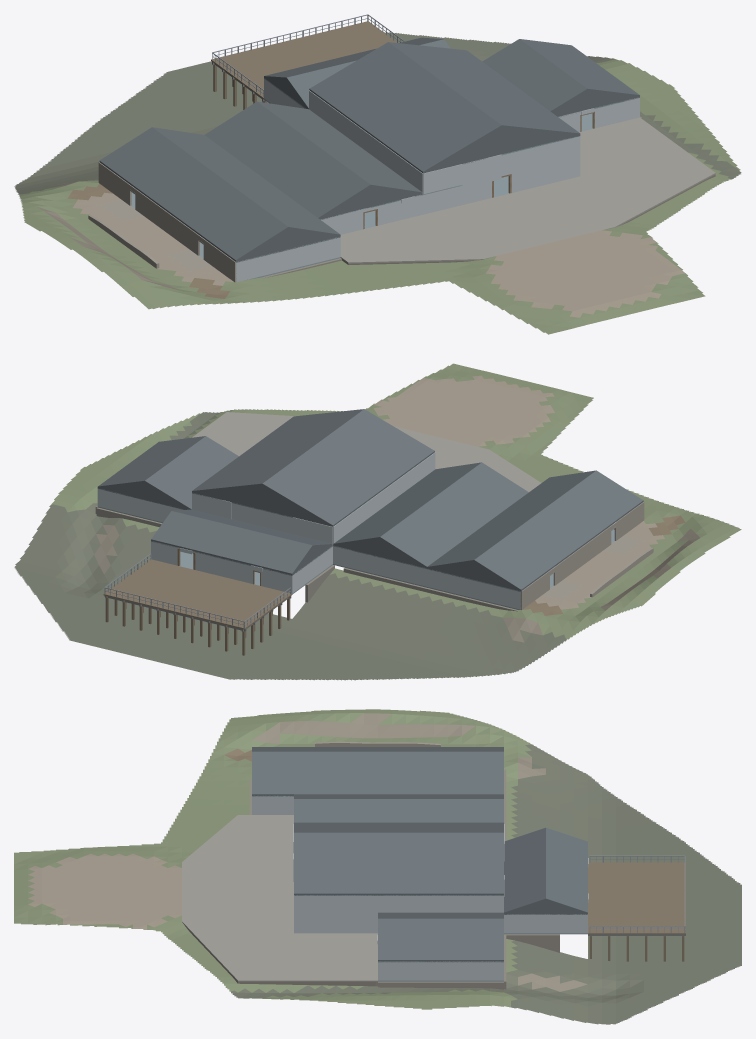
The model's file is greywater-review.glb.
3 renders of one model, top to bottom at view 1: azimuth 30°, elevation 25°; view 2: azimuth 150°, elevation 25°; view 3: azimuth 270°, elevation 25°, orthographic. The views are drawn at different scales.
Visible parts, largest first — view 1: WLD-13 saved ground, WLD-13 cannery service yard structural surface region0, processing-hall roof west, crew-mess-and-bunks roof west, boiler-and-wash roof west, processing-hall roof east, WLD-13 shore loading dock structural surface region0, crew-mess-and-bunks roof east, boiler-and-wash roof east, cold-store roof west, WLD-13 clean processing S end, cold-store roof east (+18 smaller); view 2: WLD-13 saved ground, processing-hall roof west, crew-mess-and-bunks roof west, WLD-13 shore loading dock structural surface region0, boiler-and-wash roof west, office-and-stores roof north, WLD-13 cannery service yard structural surface region0, processing-hall roof east, crew-mess-and-bunks roof east, cold-store roof west, boiler-and-wash roof east, cold-store roof east (+18 smaller); view 3: WLD-13 saved ground, WLD-13 cannery service yard structural surface region0, processing-hall roof east, crew-mess-and-bunks roof east, WLD-13 shore loading dock structural surface region0, cold-store roof east, boiler-and-wash roof east, WLD-13 clean processing E end, office-and-stores roof south, office-and-stores roof north, WLD-13 clean cold E end, processing-hall roof west (+9 smaller).
Part boxes in pixels (left/top/right/bottom): WLD-13 saved ground: left=14, top=32, right=741, bottom=334; WLD-13 cannery service yard structural surface region0: left=340, top=117, right=715, bottom=263; processing-hall roof west: left=309, top=42, right=501, bottom=172; crew-mess-and-bunks roof west: left=99, top=127, right=288, bottom=261; boiler-and-wash roof west: left=205, top=101, right=370, bottom=218; processing-hall roof east: left=388, top=42, right=580, bottom=134; WLD-13 shore loading dock structural surface region0: left=211, top=21, right=396, bottom=99; crew-mess-and-bunks roof east: left=152, top=127, right=340, bottom=235; boiler-and-wash roof east: left=257, top=101, right=422, bottom=193; cold-store roof west: left=482, top=39, right=587, bottom=111; WLD-13 clean processing S end: left=511, top=136, right=580, bottom=192; cold-store roof east: left=520, top=39, right=639, bottom=96; WLD-13 saved ground: left=14, top=363, right=741, bottom=680; processing-hall roof west: left=262, top=409, right=434, bottom=526; crew-mess-and-bunks roof west: left=474, top=470, right=643, bottom=590; WLD-13 shore loading dock structural surface region0: left=103, top=559, right=292, bottom=629; boiler-and-wash roof west: left=380, top=462, right=528, bottom=567; office-and-stores roof north: left=151, top=511, right=312, bottom=574; WLD-13 cannery service yard structural surface region0: left=192, top=412, right=541, bottom=491; processing-hall roof east: left=192, top=409, right=363, bottom=492; crew-mess-and-bunks roof east: left=427, top=470, right=595, bottom=568; cold-store roof west: left=144, top=436, right=238, bottom=509; boiler-and-wash roof east: left=333, top=462, right=481, bottom=545; cold-store roof east: left=98, top=436, right=205, bottom=487; WLD-13 saved ground: left=14, top=709, right=741, bottom=1024; WLD-13 cannery service yard structural surface region0: left=182, top=815, right=377, bottom=981; processing-hall roof east: left=294, top=832, right=503, bottom=894; crew-mess-and-bunks roof east: left=252, top=751, right=503, bottom=795; WLD-13 shore loading dock structural surface region0: left=588, top=862, right=685, bottom=934; cold-store roof east: left=378, top=918, right=503, bottom=961; boiler-and-wash roof east: left=294, top=799, right=503, bottom=822; WLD-13 clean processing E end: left=295, top=895, right=430, bottom=933; office-and-stores roof south: left=504, top=827, right=545, bottom=913; office-and-stores roof north: left=546, top=827, right=587, bottom=913; WLD-13 clean cold E end: left=379, top=961, right=502, bottom=980; processing-hall roof west: left=294, top=822, right=503, bottom=832.
Size of the model in its own units: 97 by 15.43 by 104.
Materials: 78 (54 with a texture image).
